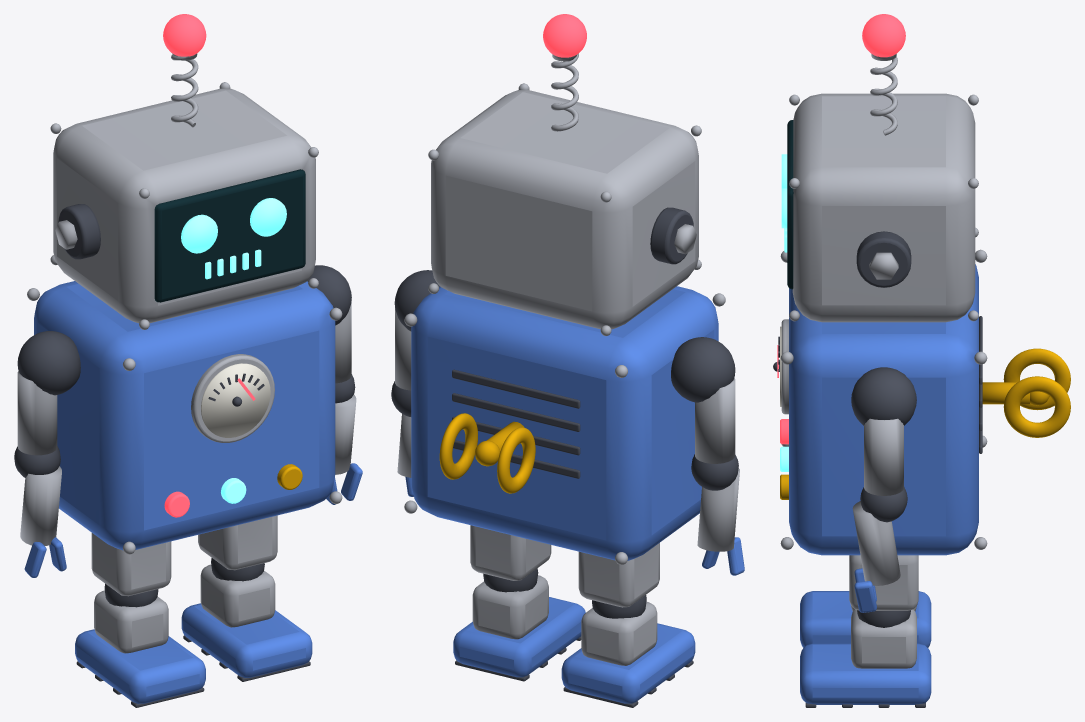
File: robot.glb
The picture shows the model from 3 angles, left to right: view 1: azimuth 30°, elevation 25°; view 2: azimuth 150°, elevation 25°; view 3: azimuth 270°, elevation 25°; orthographic projection.
Visible parts, largest first — view 1: Robot.001; view 2: Robot.001; view 3: Robot.001.
Boxes of the visible parts, x1,y1,x2,y2 form: Robot.001: [14, 14, 362, 707]; Robot.001: [391, 14, 744, 707]; Robot.001: [773, 14, 1070, 707].
Bounding box in the file's own units: 1.07 × 1.96 × 0.816.
